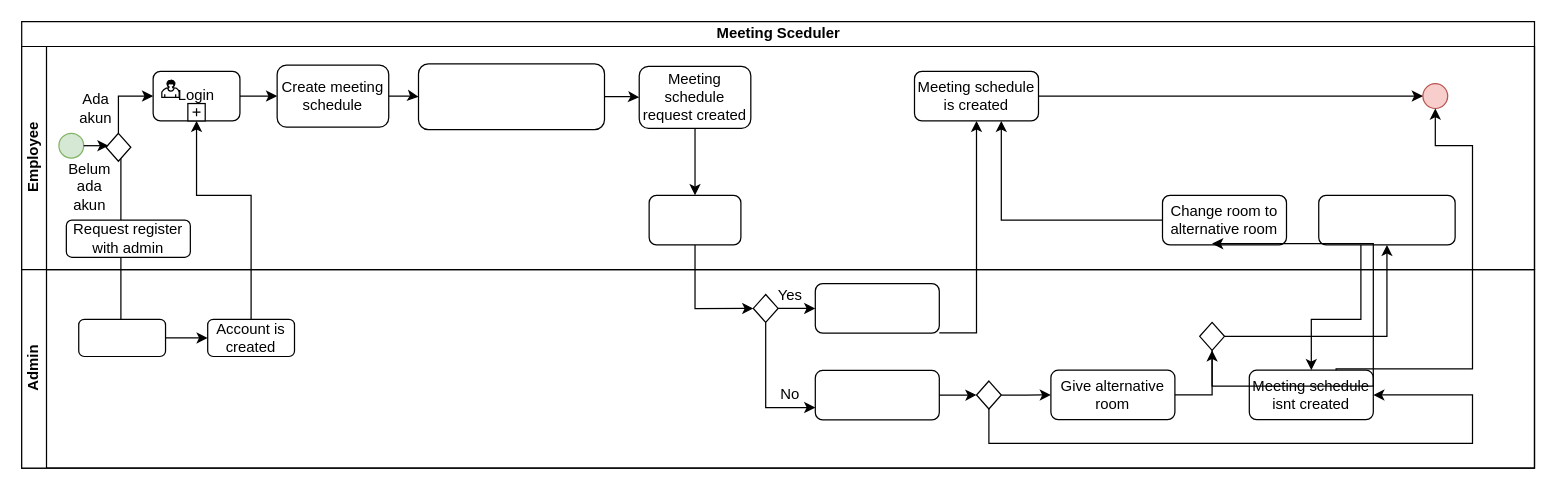
Image size: 1556x490. Some labels were removed from this diagram. Here are the shapes that lost their labels. From the top down, the box of each, then its label:
(417, 63, 604, 130): Insert Meeting Scheduler data (ID employee, name, time, date, room)
(648, 194, 741, 245): Waiting for Approval
(1318, 194, 1455, 245): Not Change room to alternative room
(814, 282, 939, 333): Approve request
(78, 318, 166, 356): Register for employee
(814, 369, 939, 420): Do not approve request
